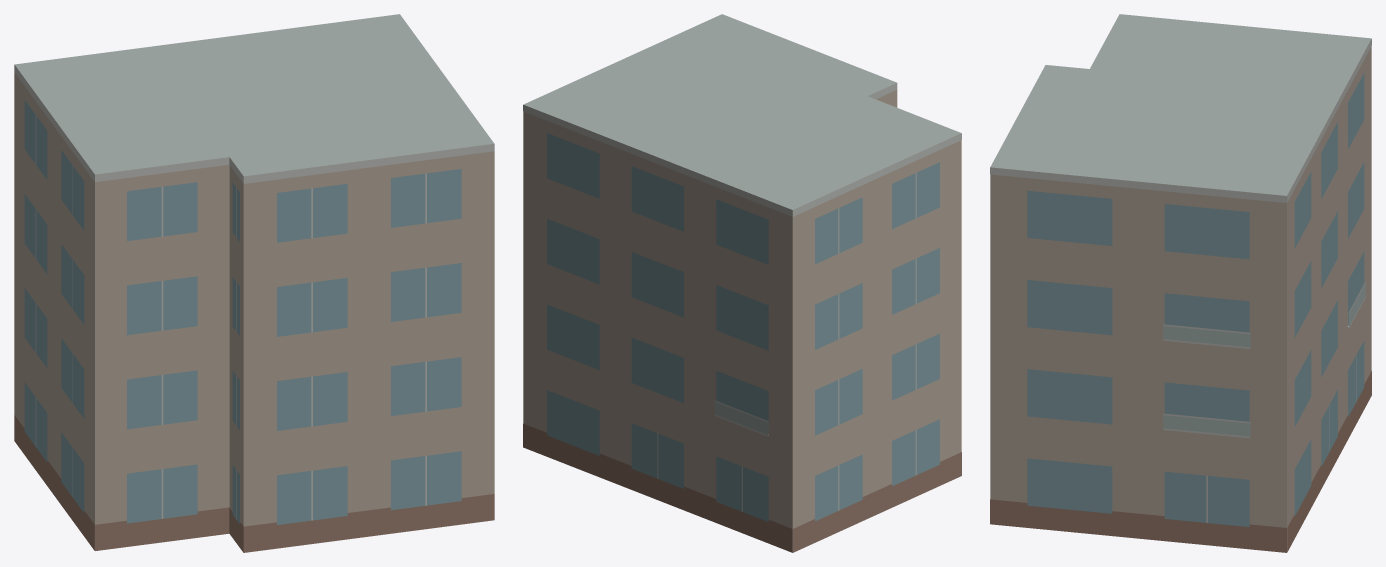
File: residential-a8db28b6-df81-401a-be7b-616aaa3bdd0e.glb
3 views of the same model, side by side, from view 1: azimuth 30°, elevation 25°; view 2: azimuth 150°, elevation 25°; view 3: azimuth 270°, elevation 25° (orthographic). The views are drawn at different scales.
Visible parts, largest first — view 1: residential-a8db28b6-df81-401a-be7b-616aaa3bdd0e.tmp; view 2: residential-a8db28b6-df81-401a-be7b-616aaa3bdd0e.tmp; view 3: residential-a8db28b6-df81-401a-be7b-616aaa3bdd0e.tmp.
Part boxes in pixels (x1,y1,x2,y2): residential-a8db28b6-df81-401a-be7b-616aaa3bdd0e.tmp: (14,14,494,552); residential-a8db28b6-df81-401a-be7b-616aaa3bdd0e.tmp: (523,14,961,552); residential-a8db28b6-df81-401a-be7b-616aaa3bdd0e.tmp: (990,14,1371,552).
Bounding box in the file's own units: 13.35 × 12.2 × 11.83.
